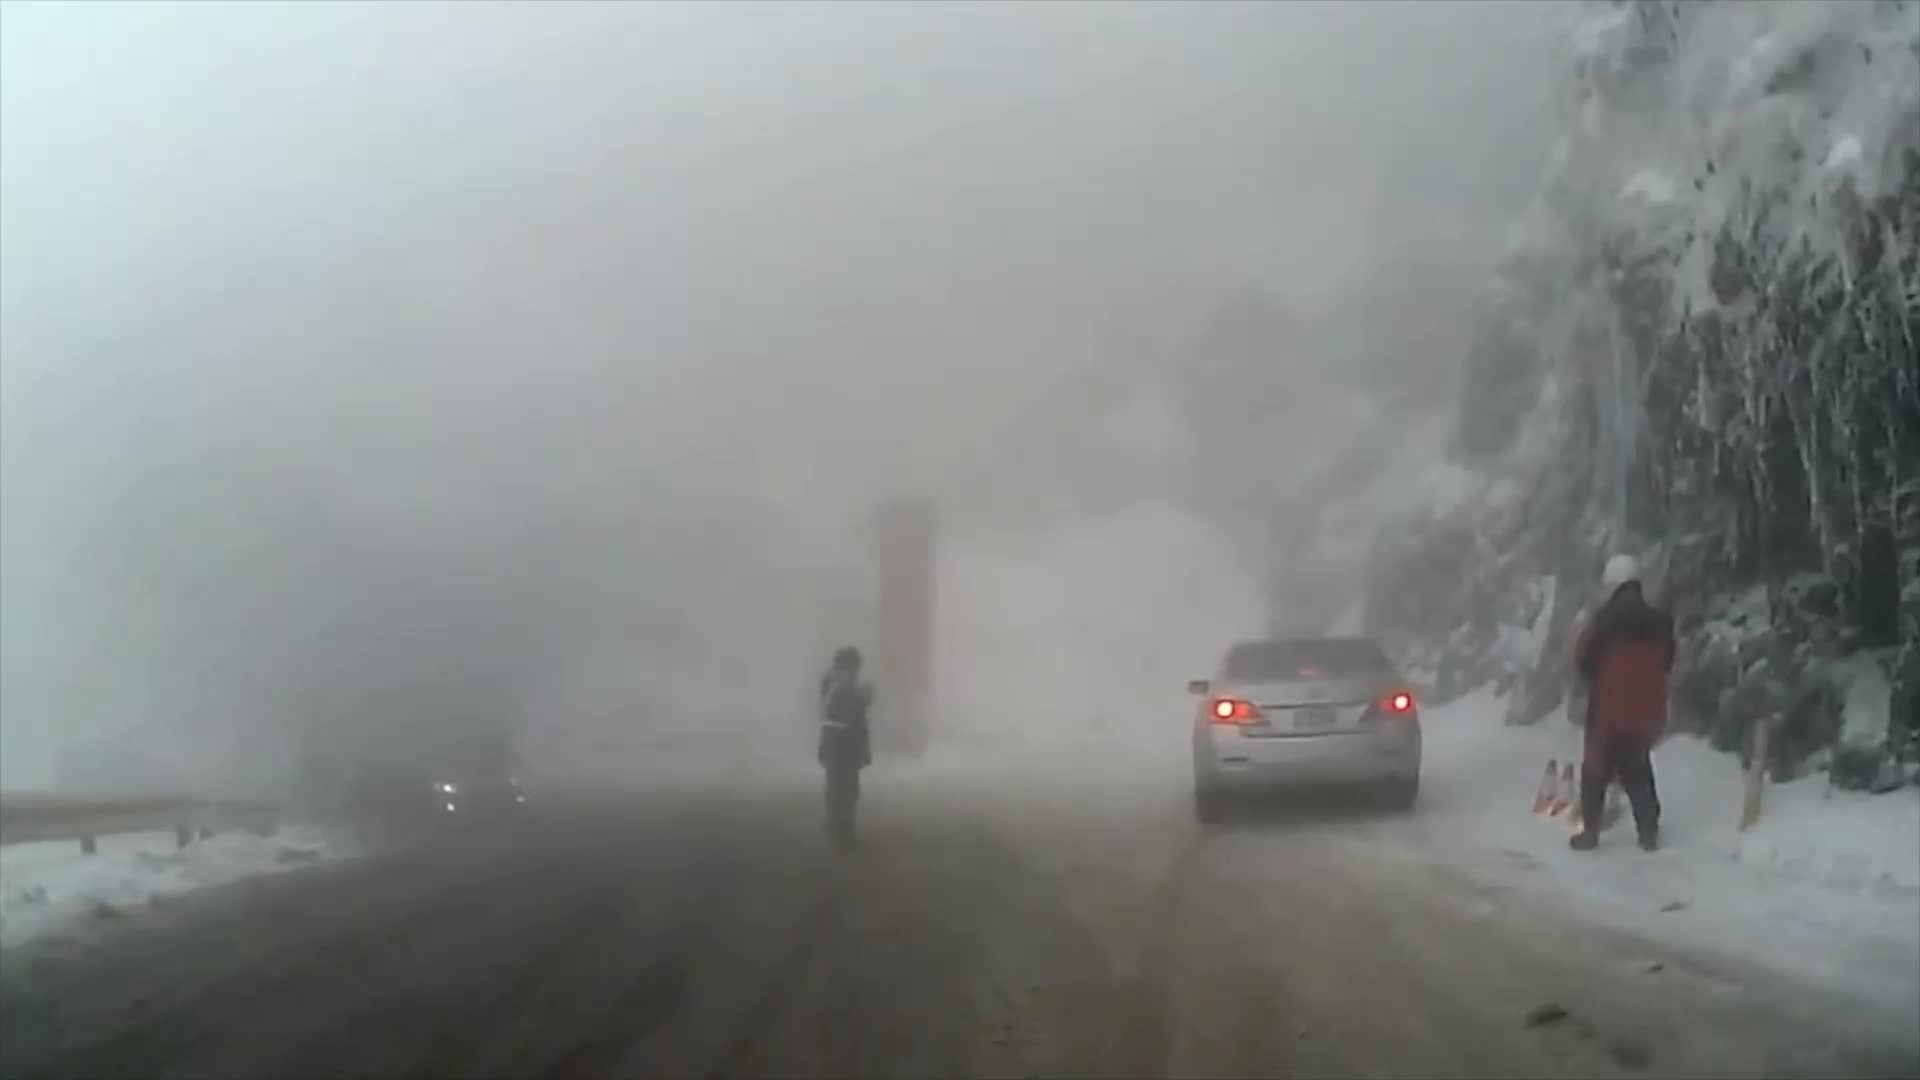pedestrian: (1567, 550, 1679, 853), (816, 647, 887, 852)
vehicle: (1186, 632, 1422, 827)
